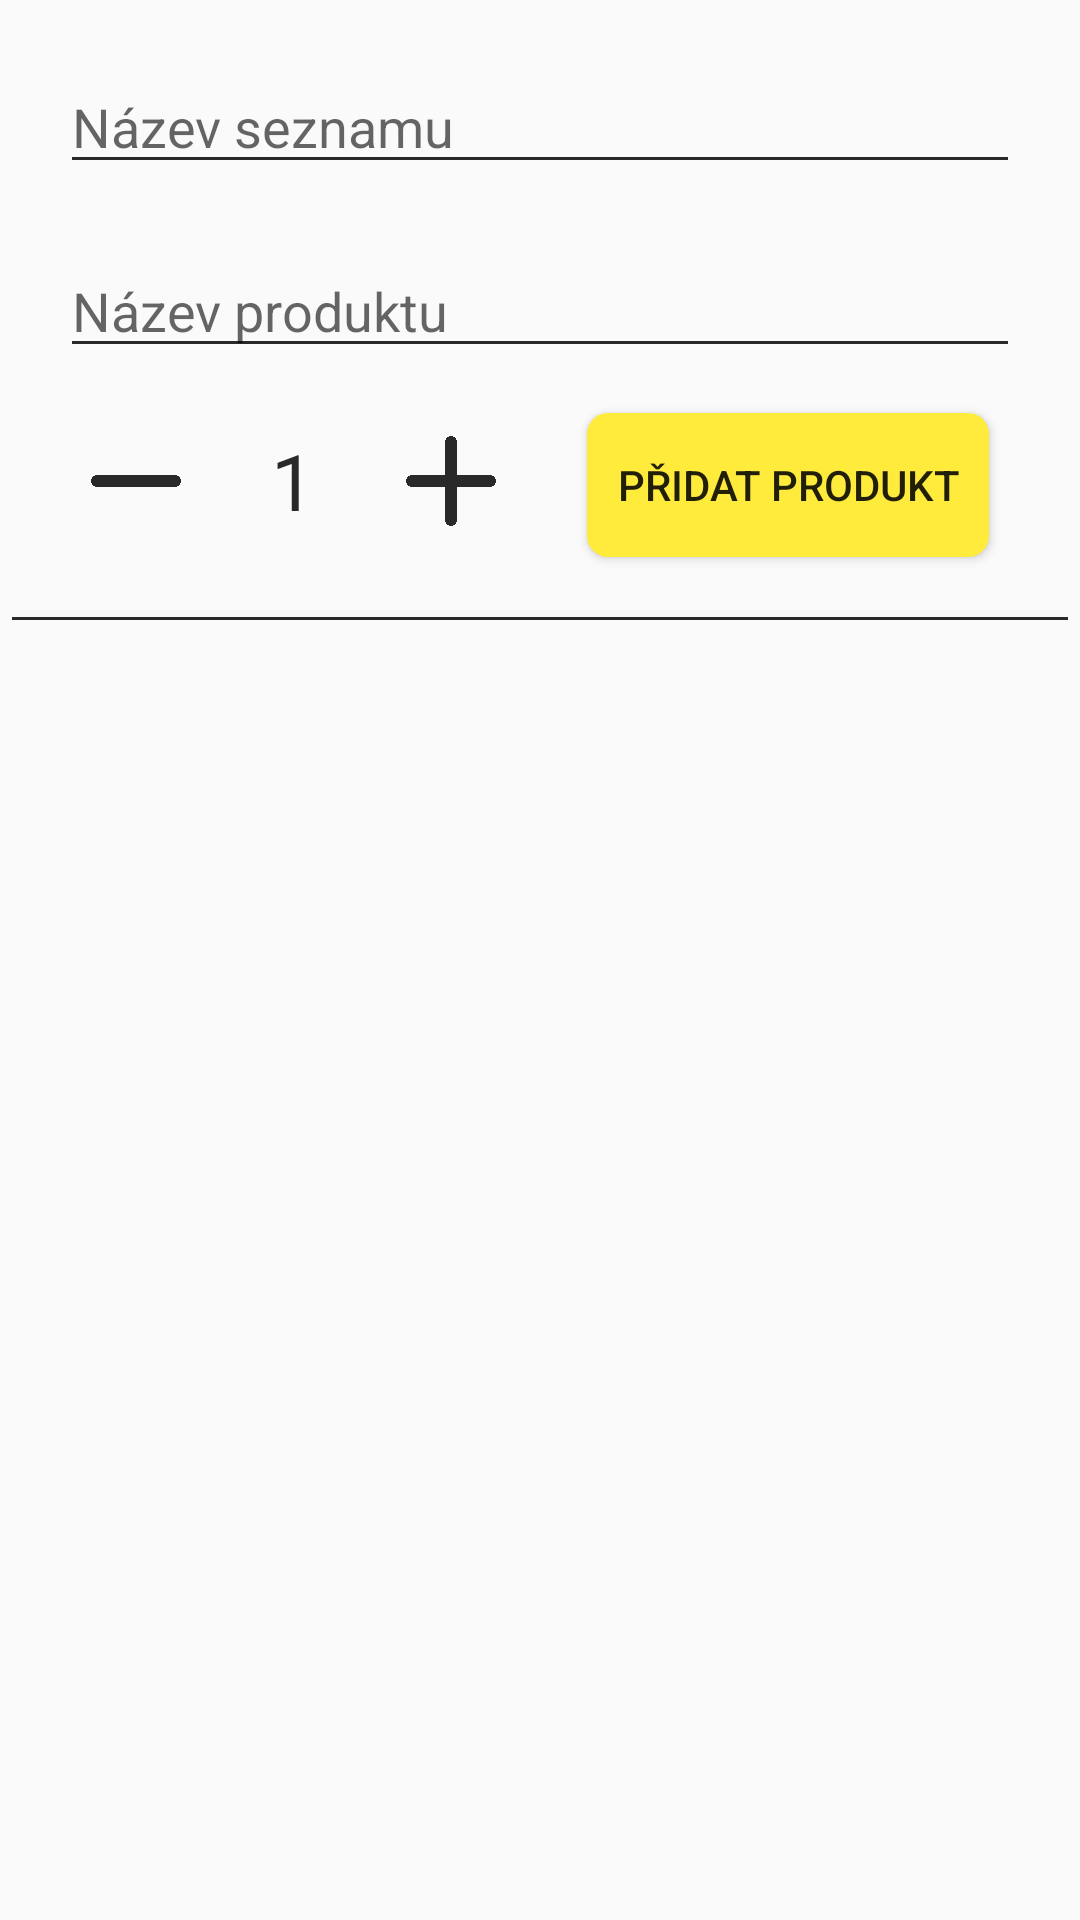

Point at icon controls on the screen. Image size 1080w x 1920h, points as point (x, y).
plus: point (451, 481)
